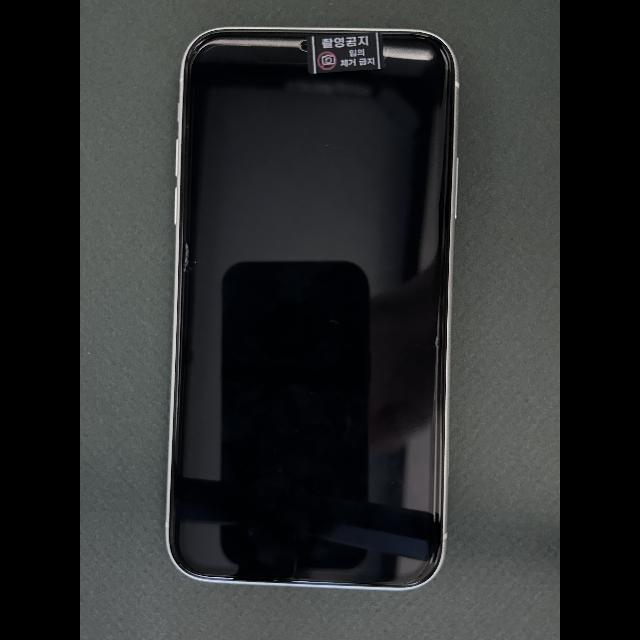phone: (165, 27, 459, 591)
sticker: (307, 32, 386, 74)
